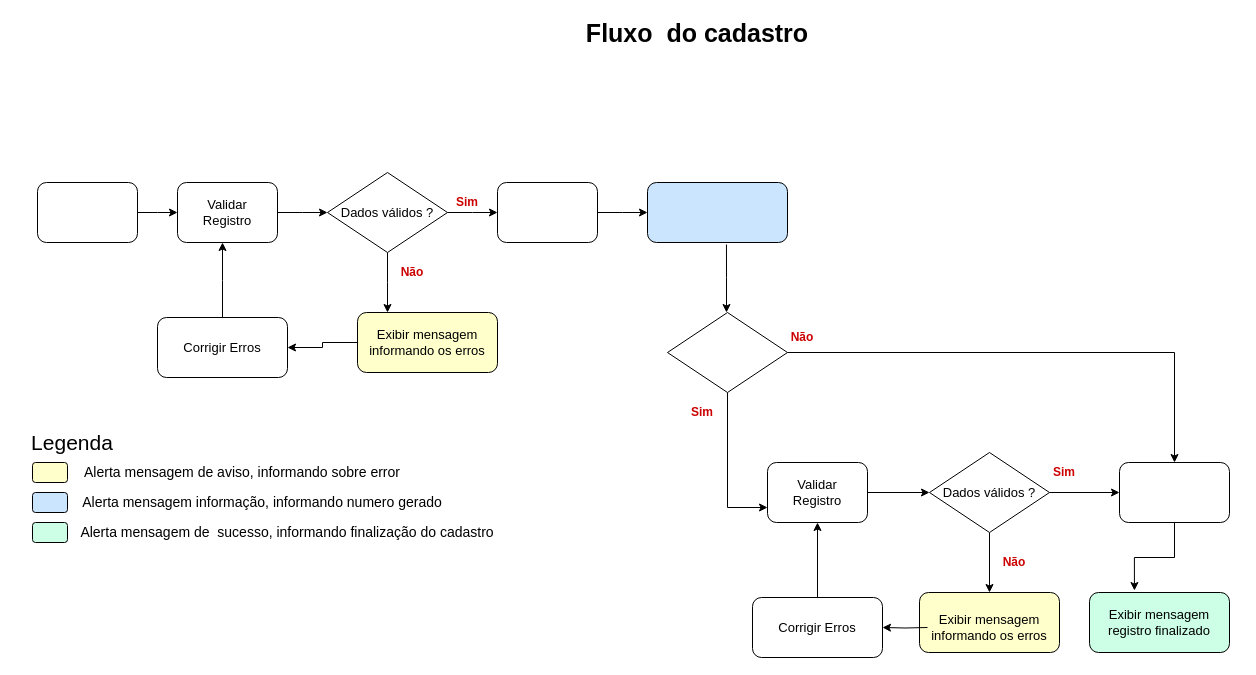
This 1256x675 diagram has some shape labels left out. Here are the shapes that lost their labels. From the top down, the centre of each, then its label:
the point at 87,212: Cadastrar Registro
the point at 547,212: Gerar numero do registro
the point at 727,352: Editar registro ?
the point at 1174,492: Finalizar registro
